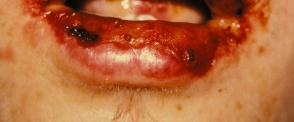SJS-TEN: (11, 0, 256, 95), (200, 0, 276, 27)
